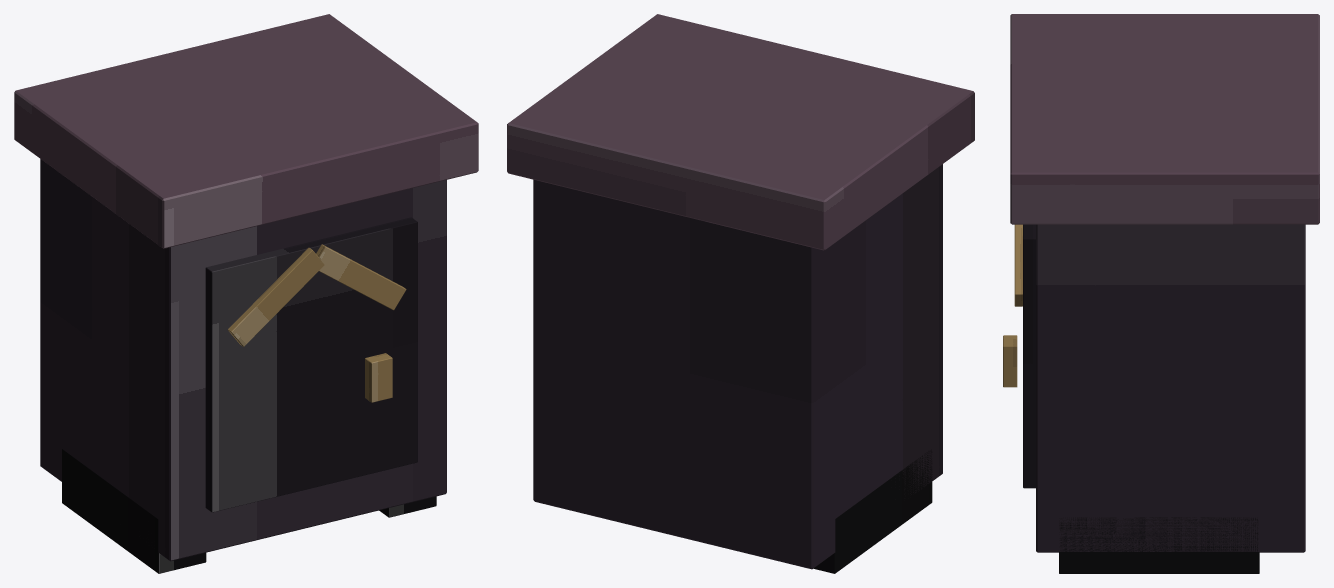
File: gothic_nightstand_crimson.glb
3 views of the same model, side by side, from view 1: azimuth 30°, elevation 25°; view 2: azimuth 150°, elevation 25°; view 3: azimuth 270°, elevation 25° (orthographic). The views are drawn at different scales.
Visible parts, largest first — view 1: NightstandBody, NightstandTop, PointedDoor, ClawFoot-0.24, DoorArchLeft, DoorArchRight, DoorPull; view 2: NightstandBody, NightstandTop, ClawFoot-0.24; view 3: NightstandBody, NightstandTop, ClawFoot0.24, PointedDoor, DoorPull, DoorArchRight.
Part boxes in pixels (<box>): NightstandBody: <box>40,159,446,561</box>; NightstandTop: <box>14,14,478,248</box>; PointedDoor: <box>205,217,417,512</box>; ClawFoot-0.24: <box>62,449,206,573</box>; DoorArchLeft: <box>228,247,324,346</box>; DoorArchRight: <box>316,244,406,310</box>; DoorPull: <box>365,353,392,402</box>; NightstandBody: <box>533,164,942,569</box>; NightstandTop: <box>507,14,974,250</box>; ClawFoot-0.24: <box>813,449,932,573</box>; NightstandBody: <box>1036,224,1305,552</box>; NightstandTop: <box>1010,14,1319,224</box>; ClawFoot0.24: <box>1059,517,1259,573</box>; PointedDoor: <box>1023,224,1035,488</box>; DoorPull: <box>1003,335,1017,387</box>; DoorArchRight: <box>1014,224,1022,306</box>.
Bounding box in the file's own units: 0.66 × 0.79 × 0.5525.
Materials: 1 (1 with a texture image).
